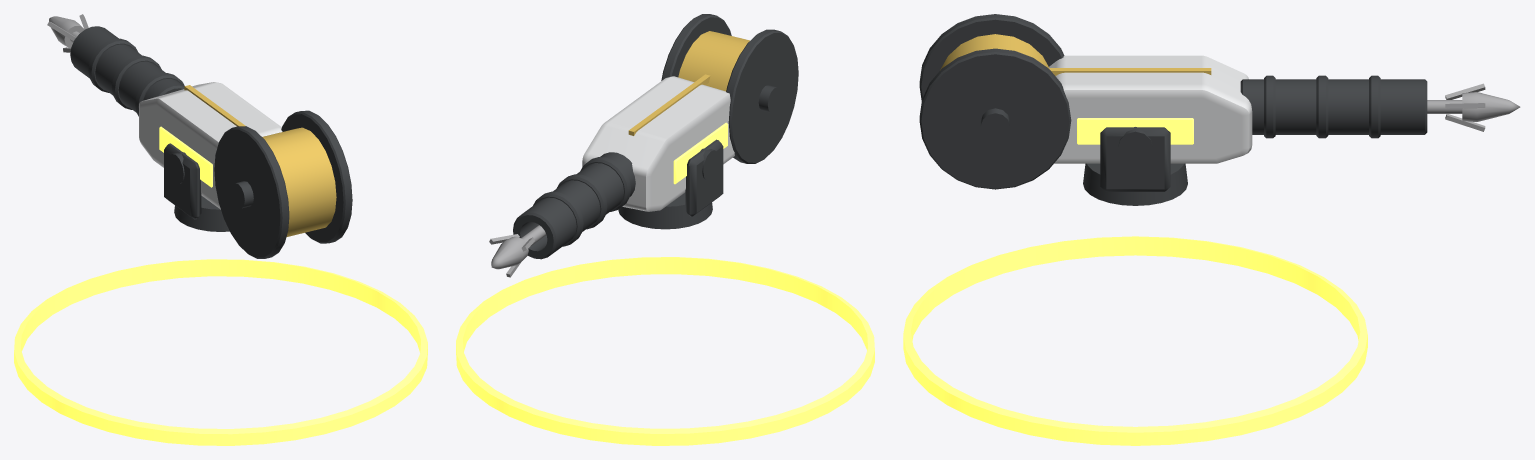
The model's file is harpoon.glb.
3 views of the same model, side by side, from view 1: azimuth 30°, elevation 25°; view 2: azimuth 150°, elevation 25°; view 3: azimuth 270°, elevation 25° (orthographic). The views are drawn at different scales.
Visible parts, largest first — view 1: launcher; view 2: launcher; view 3: launcher.
Boxes of the visible parts, x1,y1,x2,y2 form: launcher: [14, 14, 427, 445]; launcher: [456, 14, 874, 445]; launcher: [903, 14, 1520, 445].
Size of the model in its own units: 0.796 by 0.6 by 1.06.
